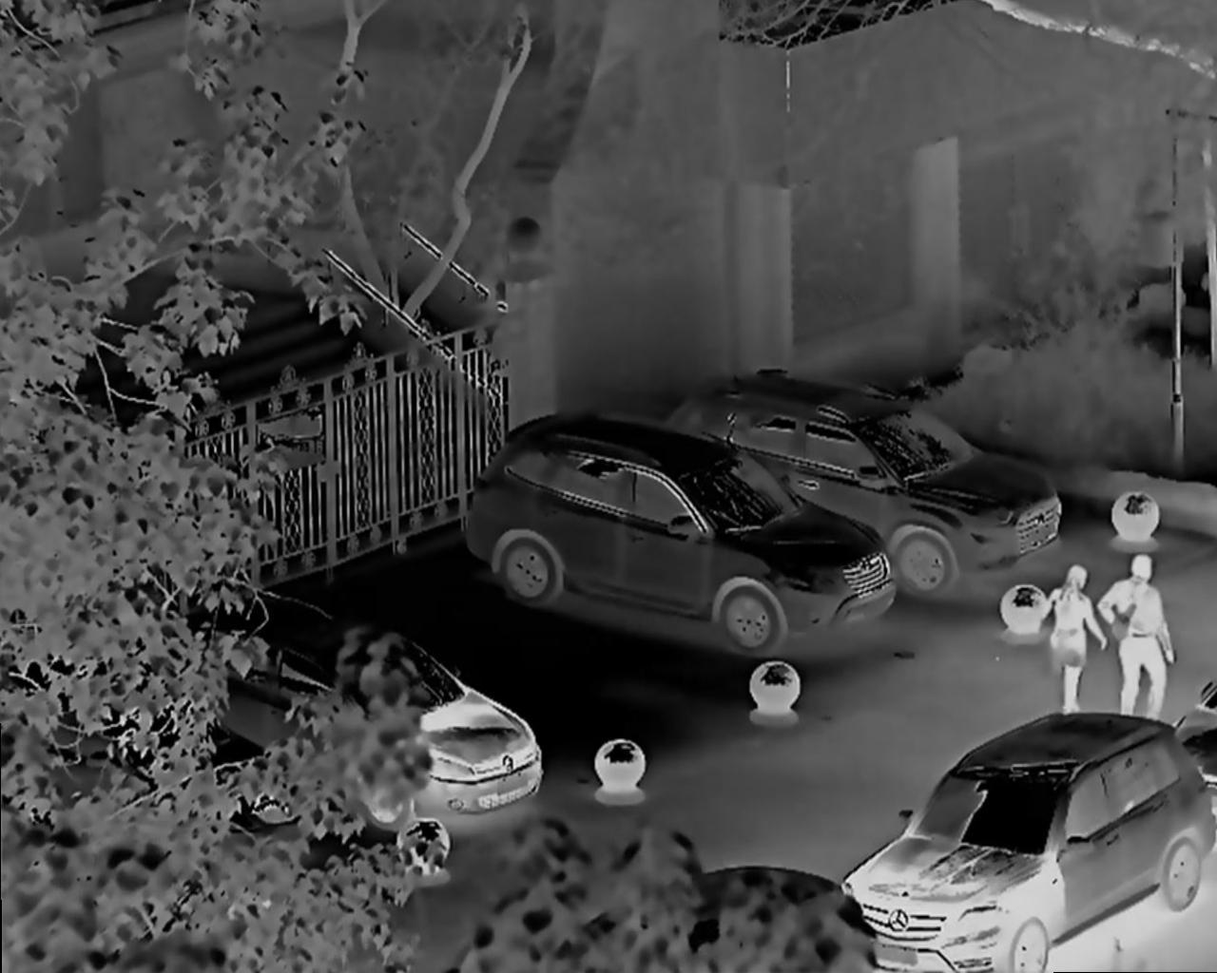person: (1103, 552, 1181, 722), (1048, 555, 1116, 732)
